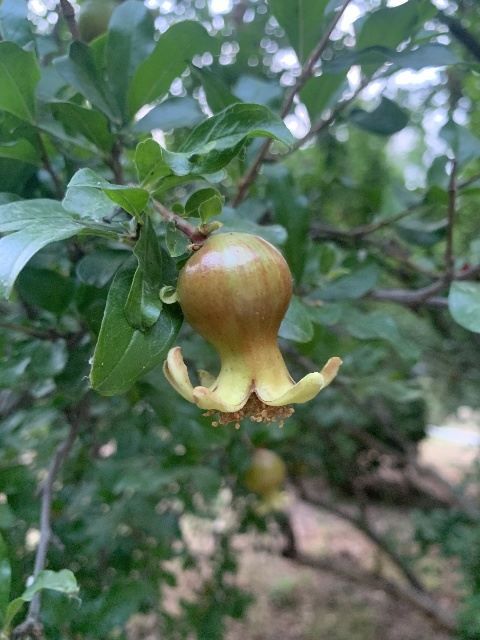early-fruit: (162, 232, 341, 429)
mid-growth: (243, 448, 295, 516)
